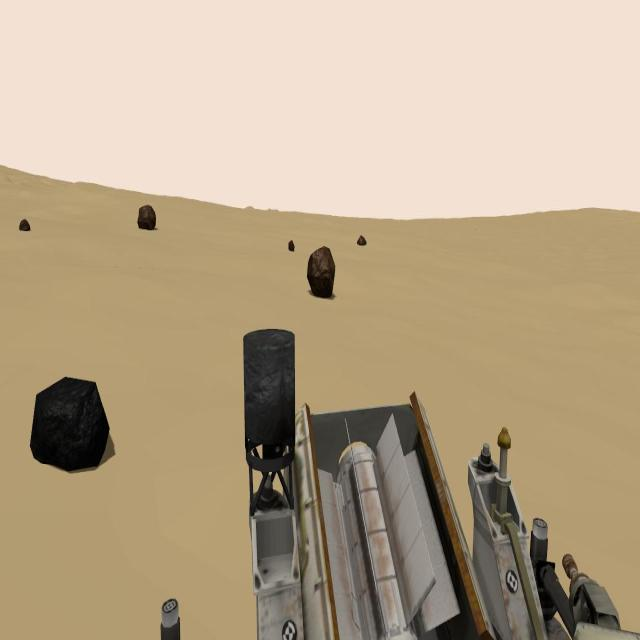rock: (30, 375, 110, 473), (308, 244, 336, 298), (137, 205, 157, 230), (18, 219, 30, 232), (356, 235, 366, 246), (288, 240, 294, 252)
